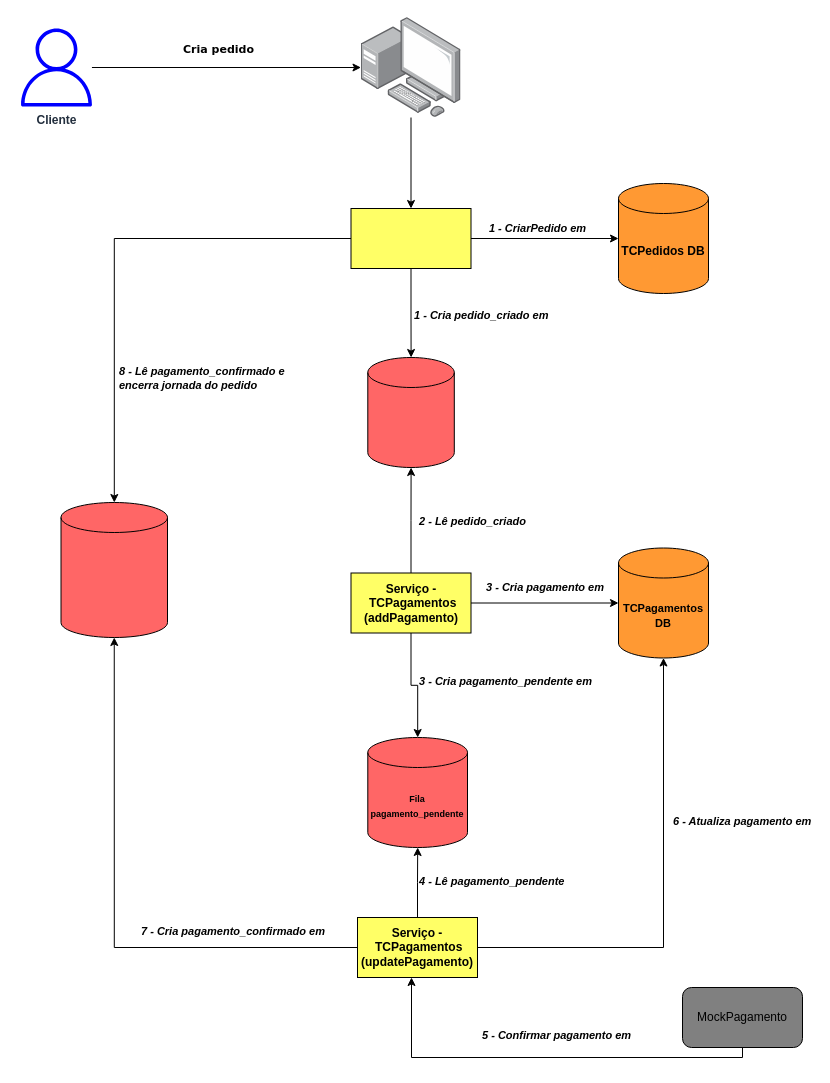
The diagram is 830 pixels wide and 1083 high, and some of its shapes have lost their labels. Here are the shapes that lost their labels. From the top down, the box of each, then its label:
(350, 208, 471, 268): Serviço - TCPedidos
(367, 356, 454, 468): Fila pedido_criado
(60, 502, 168, 638): Fila p agamento_confirmado
